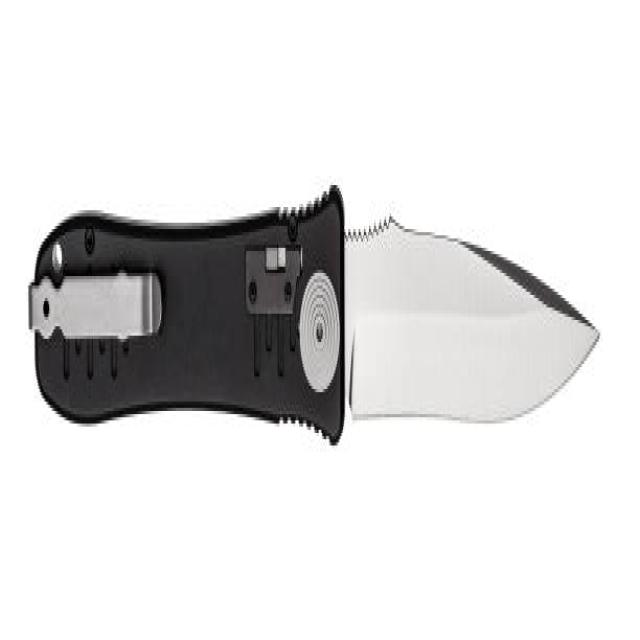knife: (27, 165, 602, 493)
